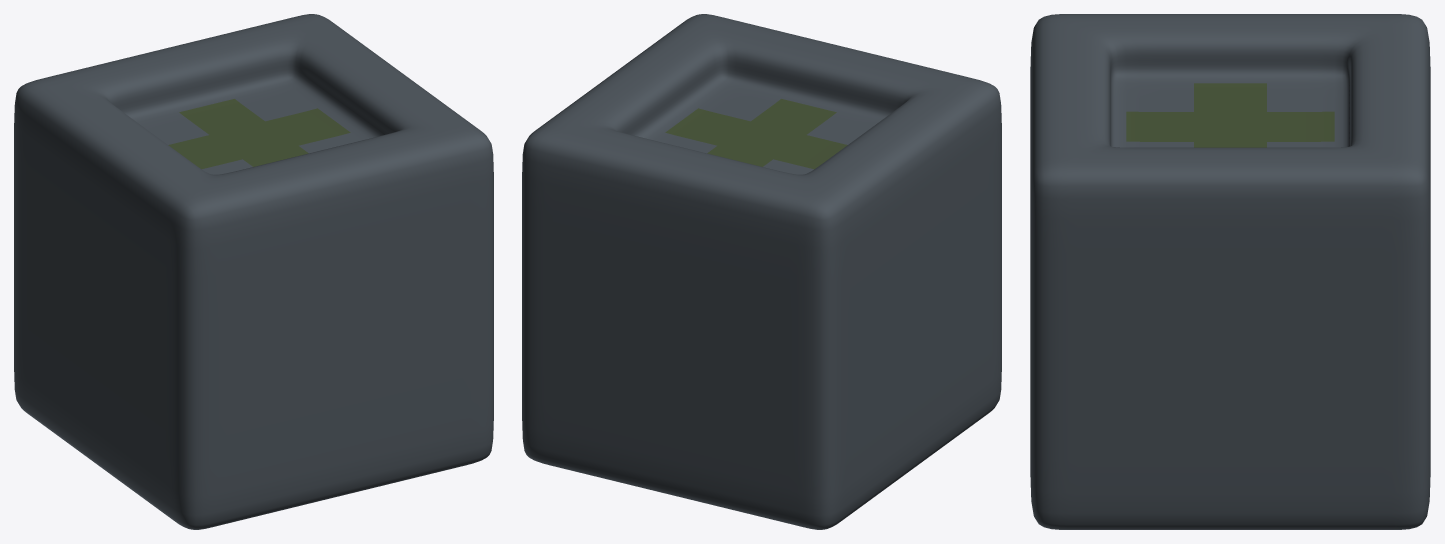
File: crate.glb
The picture shows the model from 3 angles, left to right: view 1: azimuth 30°, elevation 25°; view 2: azimuth 150°, elevation 25°; view 3: azimuth 270°, elevation 25°; orthographic projection. The views are drawn at different scales.
Parts seen in each view (by area): view 1: SupplyCrate; view 2: SupplyCrate; view 3: SupplyCrate.
Part boxes in pixels (x1,y1,x2,y2): SupplyCrate: (14,14,493,529); SupplyCrate: (522,14,1001,529); SupplyCrate: (1030,14,1430,529).
Bounding box in the file's own units: 1 × 1 × 1.
